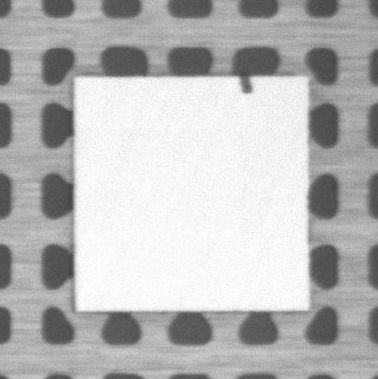DIE_INK: (239, 76, 254, 95)
